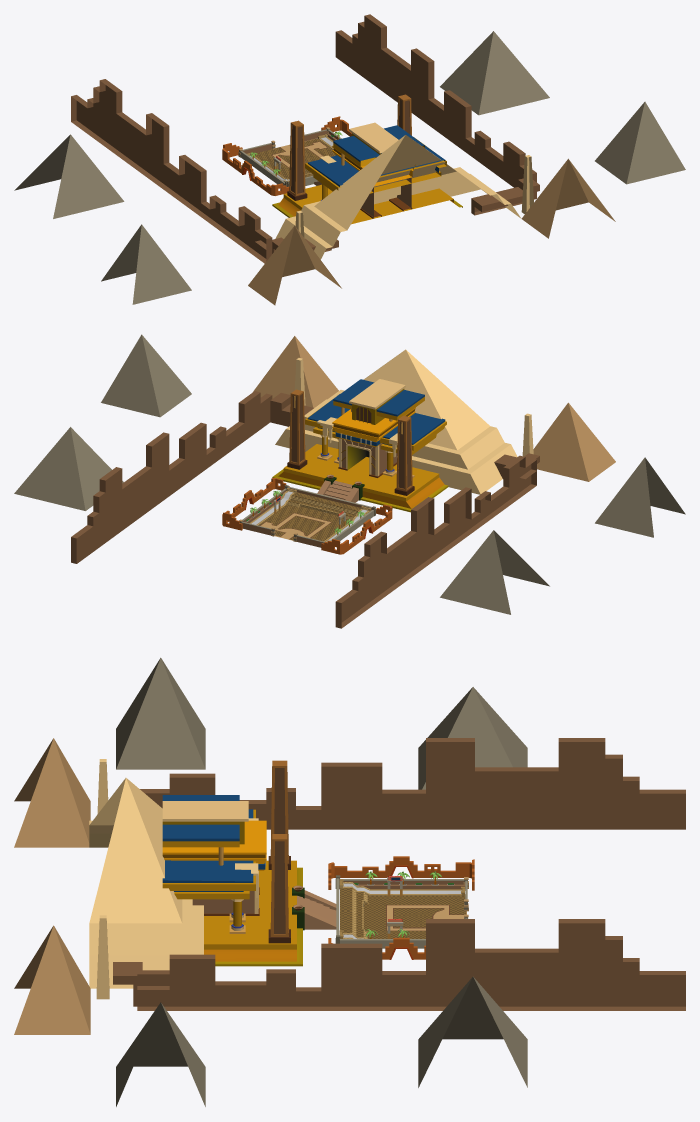
File: landmap2.fbx
The picture shows the model from 3 angles, top to bottom: view 1: azimuth 30°, elevation 25°; view 2: azimuth 150°, elevation 25°; view 3: azimuth 270°, elevation 25°; orthographic projection. The views are drawn at different scales.
Visible parts, largest first — view 1: Cube.051, Cube.058, Cube.045, Cube.049, Cube.046, Cube.048, Cube.047, Cube.056, Cube.053, Circle.001, Cube.044, Cube.018; view 2: Cube.051, Cube.058, Cube.045, Cube.049, Cube.046, Cube.048, Cube.053, Cube.047, Cube.056, Circle.001, Cube.018, Cube.044 (+4 smaller); view 3: Cube.051, Cube.058, Cube.045, Cube.047, Cube.053, Cube.056, Cube.049, Cube.046, Cube.048, Circle.001, Cube.044, Cube.018 (+2 smaller).
Part boxes in pixels (bbox=[...]): Cube.051: bbox=[71, 14, 539, 263]; Cube.058: bbox=[272, 94, 462, 224]; Cube.045: bbox=[275, 135, 533, 259]; Cube.049: bbox=[440, 31, 549, 115]; Cube.046: bbox=[14, 134, 124, 218]; Cube.048: bbox=[595, 101, 685, 184]; Cube.047: bbox=[101, 224, 191, 304]; Cube.056: bbox=[521, 158, 615, 238]; Cube.053: bbox=[248, 225, 341, 305]; Circle.001: bbox=[255, 138, 335, 178]; Cube.044: bbox=[222, 143, 289, 195]; Cube.018: bbox=[240, 129, 341, 186]; Cube.051: bbox=[71, 391, 539, 628]; Cube.058: bbox=[272, 379, 448, 512]; Cube.045: bbox=[275, 349, 533, 494]; Cube.049: bbox=[14, 427, 123, 510]; Cube.046: bbox=[440, 530, 549, 614]; Cube.048: bbox=[101, 334, 191, 417]; Cube.053: bbox=[533, 402, 615, 481]; Cube.047: bbox=[595, 457, 685, 537]; Cube.056: bbox=[253, 336, 338, 407]; Circle.001: bbox=[258, 504, 351, 541]; Cube.018: bbox=[241, 486, 373, 547]; Cube.044: bbox=[321, 504, 392, 554]; Cube.051: bbox=[113, 738, 685, 1010]; Cube.058: bbox=[162, 760, 336, 966]; Cube.045: bbox=[89, 759, 203, 999]; Cube.047: bbox=[116, 657, 205, 769]; Cube.053: bbox=[14, 738, 90, 847]; Cube.056: bbox=[14, 925, 90, 1034]; Cube.049: bbox=[418, 976, 527, 1087]; Cube.046: bbox=[418, 687, 527, 789]; Cube.048: bbox=[116, 1002, 205, 1106]; Circle.001: bbox=[363, 895, 466, 938]; Cube.044: bbox=[328, 856, 474, 890]; Cube.018: bbox=[336, 878, 467, 948].
Size of the model in its own units: 280 by 48.61 by 210.
